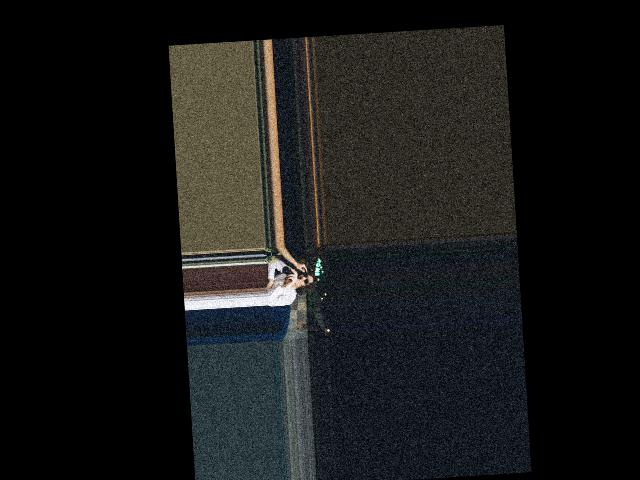beer: (281, 264, 301, 280)
